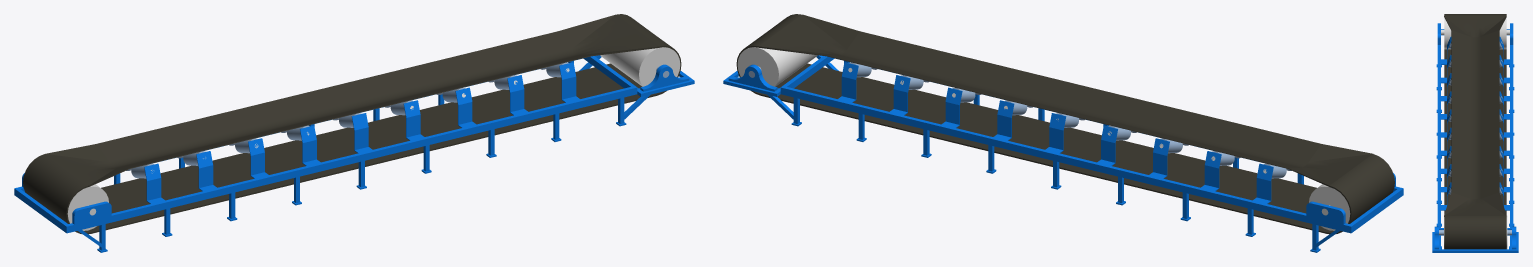
File: belt-conveyor.gltf
3 renders of one model, left to right at view 1: azimuth 30°, elevation 25°; view 2: azimuth 150°, elevation 25°; view 3: azimuth 270°, elevation 25°, orthographic. The views are drawn at different scales.
Parts seen in each view (by area): view 1: 拉伸 [251425], 放样 [251439], 拉伸 [250564], 融合 [251581], 拉伸 [251183], 融合 [251457], 拉伸 [250588], 拉伸 [251216], 拉伸 [251245], 拉伸 [251329], 拉伸 [250597], 拉伸 [251257] (+7 smaller); view 2: 拉伸 [251425], 放样 [251439], 拉伸 [250564], 融合 [251581], 拉伸 [251183], 融合 [251457], 拉伸 [250588], 拉伸 [251599], 拉伸 [251611], 拉伸 [250610], 拉伸 [251695], 拉伸 [251647] (+7 smaller); view 3: 放样 [251439], 拉伸 [251425], 拉伸 [250564], 融合 [251581], 融合 [251457], 拉伸 [251160], 拉伸 [250588], 拉伸 [251196], 拉伸 [251205], 拉伸 [251183], 拉伸 [251245], 拉伸 [251611] (+18 smaller).
Part boxes in pixels (x1=…): 拉伸 [251425]: x1=23, y1=14, x2=681, y2=234; 放样 [251439]: x1=97, y1=31, x2=591, y2=168; 拉伸 [250564]: x1=14, y1=56, x2=637, y2=233; 融合 [251581]: x1=558, y1=14, x2=659, y2=56; 拉伸 [251183]: x1=600, y1=47, x2=680, y2=86; 融合 [251457]: x1=45, y1=144, x2=129, y2=186; 拉伸 [250588]: x1=67, y1=184, x2=108, y2=230; 拉伸 [251216]: x1=144, y1=163, x2=164, y2=203; 拉伸 [251245]: x1=196, y1=151, x2=216, y2=191; 拉伸 [251329]: x1=559, y1=62, x2=579, y2=102; 拉伸 [250597]: x1=72, y1=201, x2=111, y2=224; 拉伸 [251257]: x1=248, y1=138, x2=268, y2=178; 拉伸 [251425]: x1=736, y1=14, x2=1394, y2=234; 放样 [251439]: x1=826, y1=31, x2=1320, y2=168; 拉伸 [250564]: x1=780, y1=56, x2=1403, y2=233; 融合 [251581]: x1=758, y1=14, x2=859, y2=56; 拉伸 [251183]: x1=737, y1=47, x2=817, y2=86; 融合 [251457]: x1=1288, y1=144, x2=1372, y2=186; 拉伸 [250588]: x1=1309, y1=184, x2=1350, y2=230; 拉伸 [251599]: x1=1253, y1=163, x2=1273, y2=203; 拉伸 [251611]: x1=1201, y1=151, x2=1221, y2=191; 拉伸 [250610]: x1=1306, y1=201, x2=1345, y2=224; 拉伸 [251695]: x1=838, y1=62, x2=858, y2=102; 拉伸 [251647]: x1=1045, y1=113, x2=1066, y2=153; 放样 [251439]: x1=1451, y1=30, x2=1499, y2=199; 拉伸 [251425]: x1=1444, y1=14, x2=1506, y2=249; 拉伸 [250564]: x1=1437, y1=29, x2=1513, y2=229; 融合 [251581]: x1=1444, y1=192, x2=1506, y2=216; 融合 [251457]: x1=1444, y1=15, x2=1506, y2=37; 拉伸 [251160]: x1=1432, y1=232, x2=1518, y2=252; 拉伸 [250588]: x1=1444, y1=17, x2=1506, y2=49; 拉伸 [251196]: x1=1434, y1=226, x2=1438, y2=245; 拉伸 [251205]: x1=1512, y1=226, x2=1516, y2=245; 拉伸 [251183]: x1=1444, y1=216, x2=1507, y2=248; 拉伸 [251245]: x1=1441, y1=55, x2=1451, y2=83; 拉伸 [251611]: x1=1499, y1=55, x2=1509, y2=83.
Size of the model in its own units: 4.81 by 0.4986 by 0.8.
